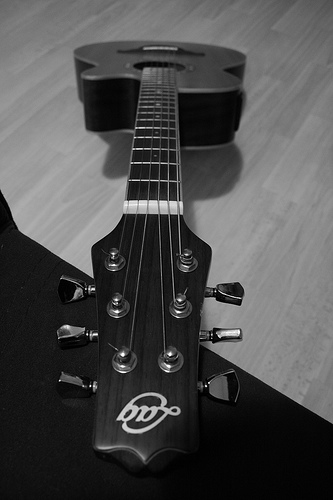guitar: (55, 38, 248, 472)
